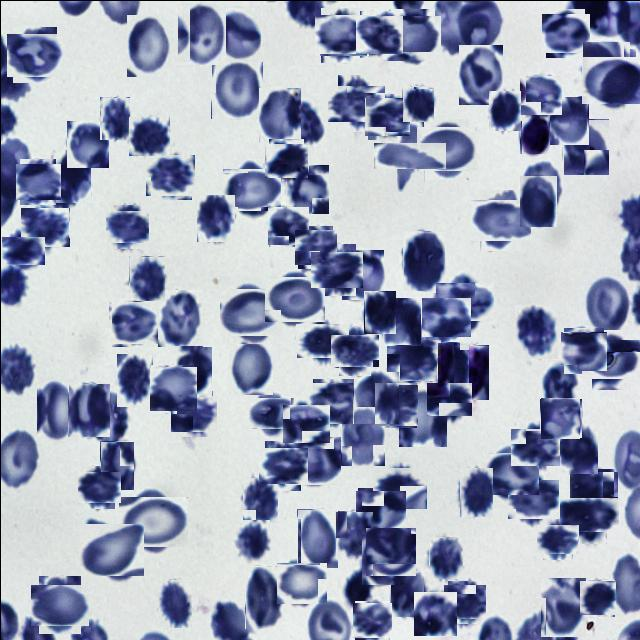difficult: (452, 344, 488, 399)
leukocyte: (520, 110, 550, 153)
red blood cell: (122, 491, 182, 551), (82, 520, 140, 578), (176, 1, 225, 64), (222, 284, 277, 339), (210, 60, 262, 118), (584, 52, 639, 106), (267, 272, 320, 325), (398, 388, 446, 446), (539, 576, 585, 636), (126, 14, 170, 76), (420, 122, 472, 174), (286, 434, 338, 486), (385, 11, 437, 63), (584, 274, 630, 332), (458, 44, 502, 104), (213, 6, 260, 62), (157, 290, 202, 348), (474, 194, 525, 245), (340, 406, 384, 465), (562, 119, 608, 174), (84, 390, 130, 445), (402, 230, 444, 290), (36, 379, 77, 440), (9, 29, 59, 79), (226, 164, 276, 214), (34, 579, 84, 629), (586, 334, 636, 384), (384, 130, 434, 180), (581, 40, 629, 92), (228, 339, 272, 394), (296, 508, 337, 567), (439, 277, 488, 326), (366, 526, 414, 576), (244, 565, 282, 628), (352, 371, 398, 423), (514, 304, 557, 358), (487, 449, 535, 497), (375, 463, 423, 511), (356, 488, 404, 536), (389, 335, 437, 383), (552, 422, 597, 473), (258, 87, 300, 141), (67, 382, 109, 436), (316, 11, 364, 58), (332, 79, 379, 126), (565, 490, 612, 537), (361, 532, 402, 584), (50, 149, 90, 202), (110, 298, 156, 344), (278, 560, 324, 606), (570, 470, 616, 516), (147, 152, 193, 198), (510, 476, 556, 522), (310, 380, 356, 426), (149, 365, 195, 411), (285, 164, 328, 213), (341, 249, 383, 299), (546, 95, 588, 144), (521, 163, 561, 214), (22, 204, 67, 248), (424, 294, 468, 339), (518, 174, 556, 226), (66, 120, 108, 167), (542, 10, 586, 54), (299, 318, 343, 362), (314, 247, 358, 291), (116, 353, 152, 406), (173, 346, 211, 396), (562, 328, 605, 372), (413, 591, 456, 635), (374, 382, 416, 427), (357, 12, 400, 55), (260, 444, 304, 486), (514, 424, 556, 468), (334, 510, 372, 558), (382, 298, 420, 346), (172, 392, 215, 434), (196, 194, 234, 241), (365, 96, 407, 138), (284, 402, 326, 444), (436, 341, 468, 395), (17, 160, 58, 202), (458, 466, 492, 516), (519, 74, 560, 115), (157, 578, 191, 627), (99, 440, 133, 489), (241, 476, 277, 522), (540, 397, 580, 438), (284, 99, 323, 141), (128, 255, 164, 300), (334, 330, 374, 370), (267, 205, 307, 245), (429, 378, 469, 418), (128, 116, 169, 155), (295, 227, 334, 266), (266, 140, 305, 179), (444, 582, 484, 620), (390, 570, 423, 616), (251, 394, 290, 432), (107, 207, 145, 245), (80, 468, 118, 506), (352, 601, 390, 639), (428, 536, 462, 578), (234, 519, 269, 559), (363, 290, 395, 333), (541, 363, 576, 402), (4, 232, 40, 268), (539, 520, 575, 556), (100, 96, 130, 139), (488, 90, 520, 130), (580, 580, 614, 615), (402, 85, 434, 121), (344, 568, 372, 607)
